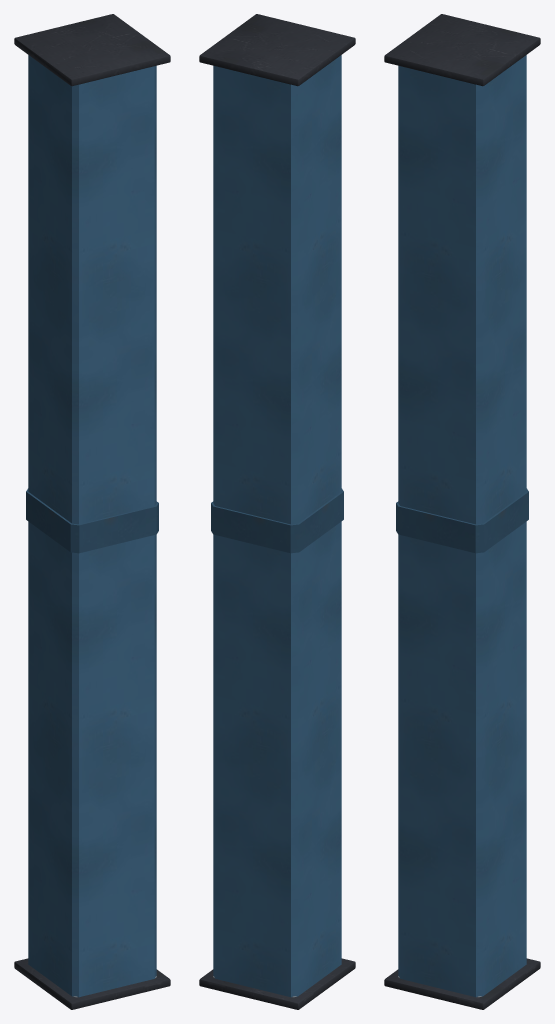
The model's file is metal_column.glb.
3 renders of one model, left to right at view 1: azimuth 30°, elevation 25°; view 2: azimuth 150°, elevation 25°; view 3: azimuth 330°, elevation 25°, orthographic.
Parts seen in each view (by area): view 1: Body.006; view 2: Body.006; view 3: Body.006.
Boxes of the visible parts, bbox=[...] form: Body.006: bbox=[14, 14, 170, 1009]; Body.006: bbox=[199, 14, 355, 1009]; Body.006: bbox=[384, 14, 540, 1009].
Bounding box in the file's own units: 0.224 × 2 × 0.224.
4 materials, 4 textured.
